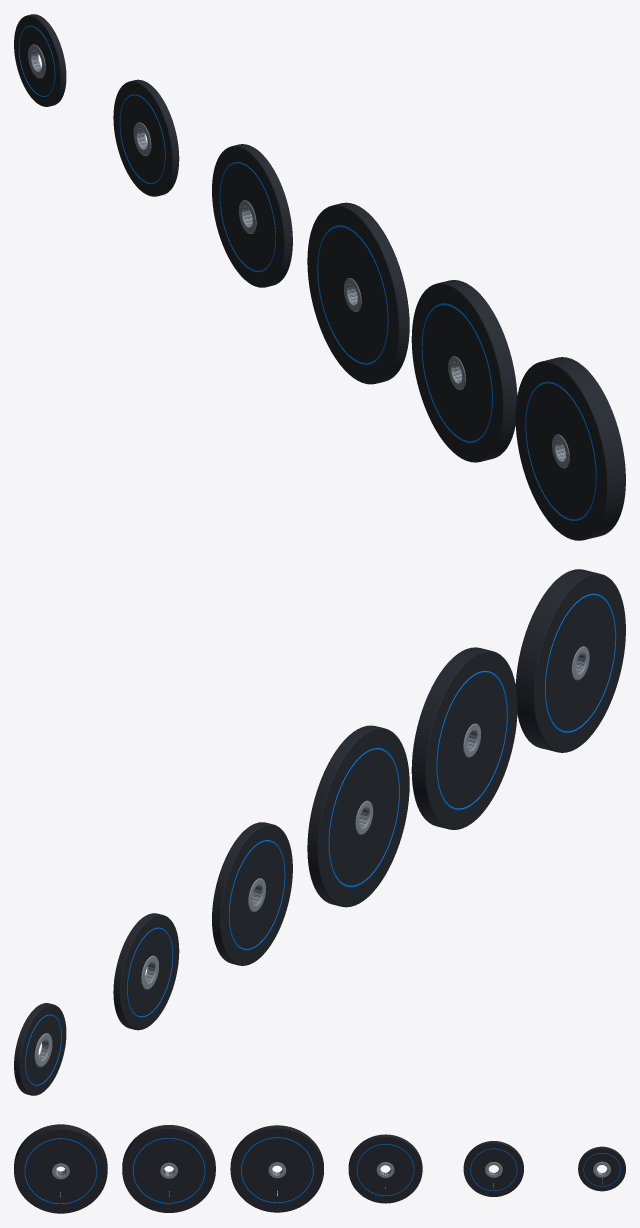
The model's file is weight-plates.glb.
The picture shows the model from 3 angles, top to bottom: view 1: azimuth 30°, elevation 25°; view 2: azimuth 150°, elevation 25°; view 3: azimuth 270°, elevation 25°; orthographic projection. The views are drawn at different scales.
Parts seen in each view (by area): view 1: EQ_Plate_20kg_Body, EQ_Plate_15kg_Body, EQ_Plate_10kg_Body, EQ_Plate_5kg_Body, EQ_Plate_2.5kg_Body, EQ_Plate_1.25kg_Body; view 2: EQ_Plate_20kg_Body, EQ_Plate_15kg_Body, EQ_Plate_10kg_Body, EQ_Plate_5kg_Body, EQ_Plate_2.5kg_Body, EQ_Plate_1.25kg_Body; view 3: EQ_Plate_20kg_Body, EQ_Plate_15kg_Body, EQ_Plate_10kg_Body, EQ_Plate_5kg_Body, EQ_Plate_2.5kg_Body, EQ_Plate_1.25kg_Body, EQ_Plate_10kg_Accent, EQ_Plate_20kg_Accent, EQ_Plate_15kg_Accent, EQ_Plate_5kg_Accent, EQ_Plate_20kg_Hub, EQ_Plate_15kg_Hub (+5 smaller).
Part boxes in pixels (x1,y1,x2,y2): EQ_Plate_20kg_Body: (515,357,625,540); EQ_Plate_15kg_Body: (411,280,517,462); EQ_Plate_10kg_Body: (307,202,409,384); EQ_Plate_5kg_Body: (212,144,292,287); EQ_Plate_2.5kg_Body: (113,79,179,196); EQ_Plate_1.25kg_Body: (14,14,66,106); EQ_Plate_20kg_Body: (515,569,625,752); EQ_Plate_15kg_Body: (411,647,517,829); EQ_Plate_10kg_Body: (307,725,409,907); EQ_Plate_5kg_Body: (212,822,292,965); EQ_Plate_2.5kg_Body: (113,913,179,1030); EQ_Plate_1.25kg_Body: (14,1003,66,1095); EQ_Plate_20kg_Body: (14,1124,107,1213); EQ_Plate_15kg_Body: (122,1125,215,1212); EQ_Plate_10kg_Body: (230,1125,323,1212); EQ_Plate_5kg_Body: (348,1134,422,1203); EQ_Plate_2.5kg_Body: (463,1141,523,1196); EQ_Plate_1.25kg_Body: (578,1146,625,1191); EQ_Plate_10kg_Accent: (241,1137,313,1203); EQ_Plate_20kg_Accent: (24,1138,97,1204); EQ_Plate_15kg_Accent: (132,1138,205,1203); EQ_Plate_5kg_Accent: (356,1144,414,1196); EQ_Plate_20kg_Hub: (52,1163,69,1179); EQ_Plate_15kg_Hub: (160,1162,177,1178).
Size of the model in its own units: 0.0711 by 0.45 by 2.94.
